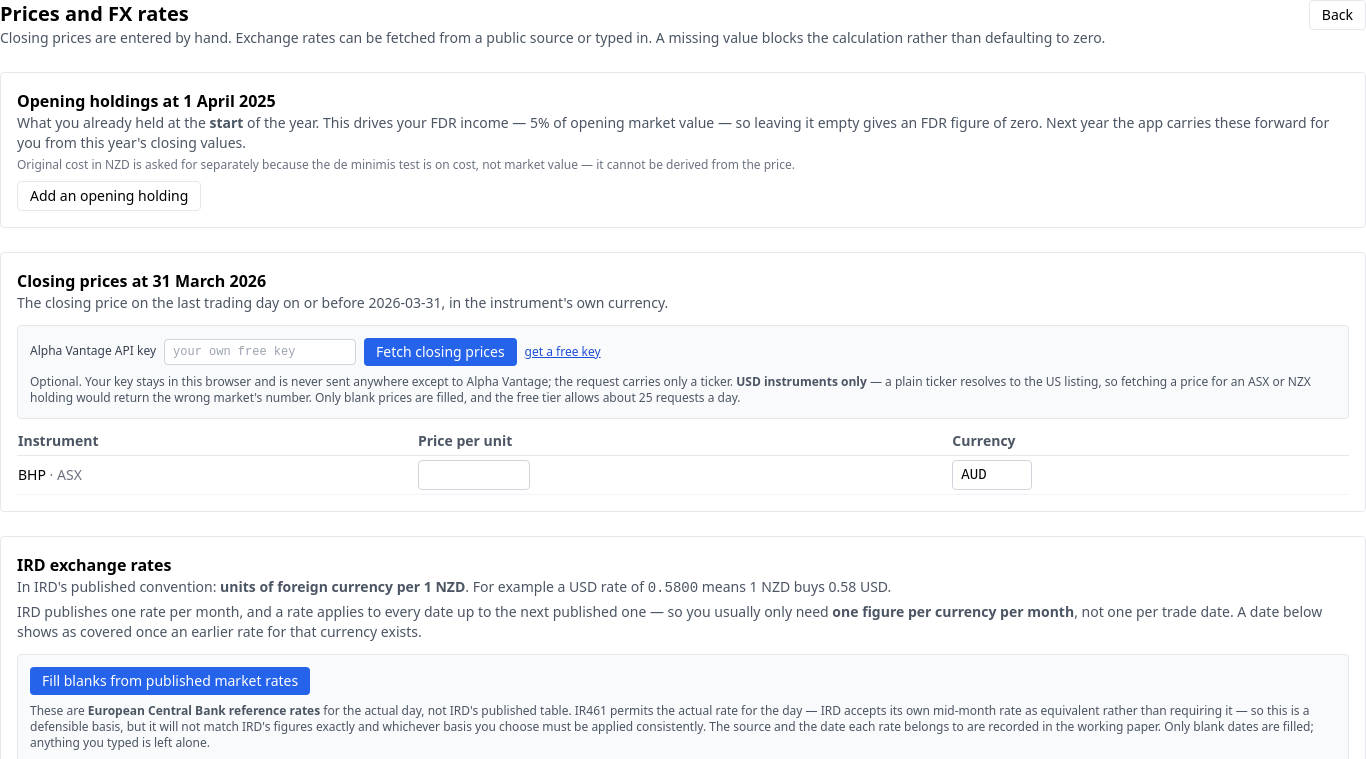
Test: fetching closing prices › refuses to fetch a non-USD holding, and says why
Type "test-key" into the password field labelled "Alpha Vantage API key".
click(260, 352); type("test-key")  # box [164,339,356,365]
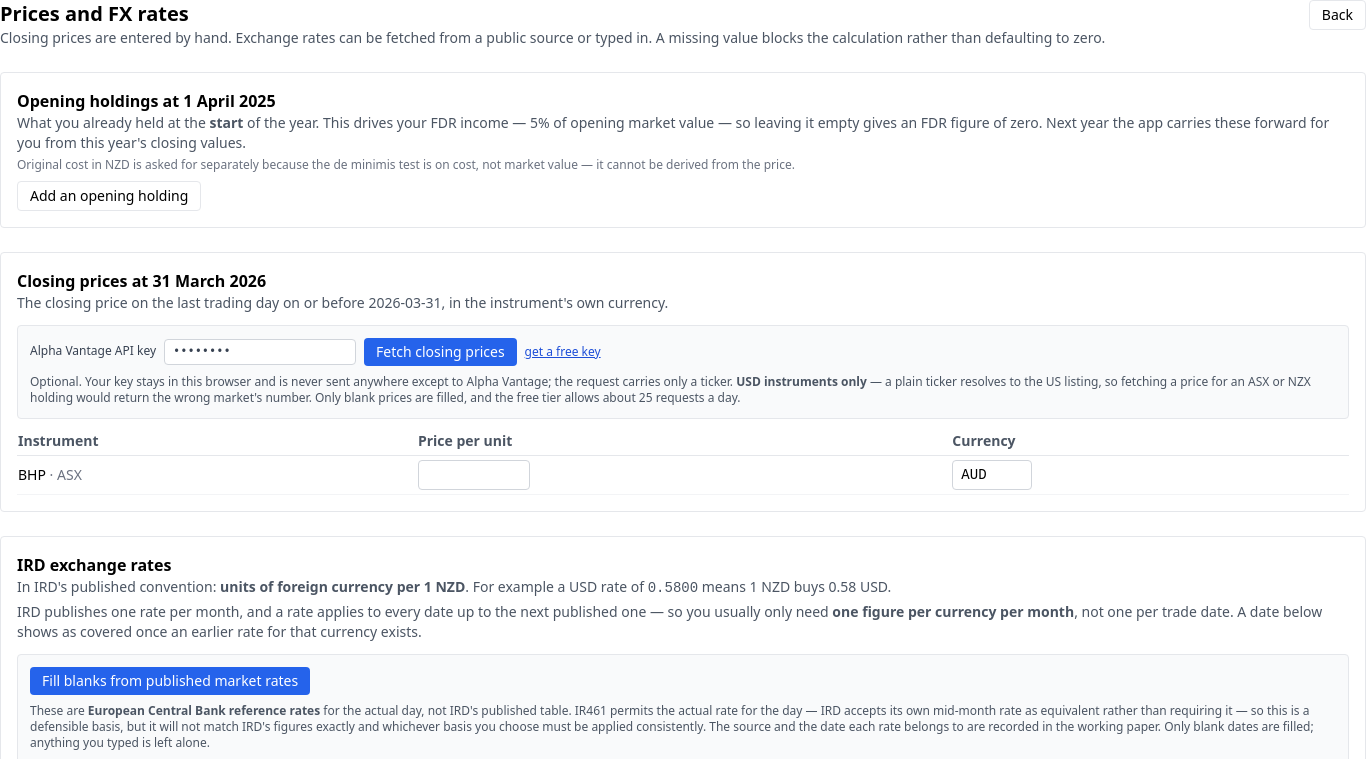
Click the button with test id "fetch-prices".
click(440, 352)  # box [364,338,517,366]
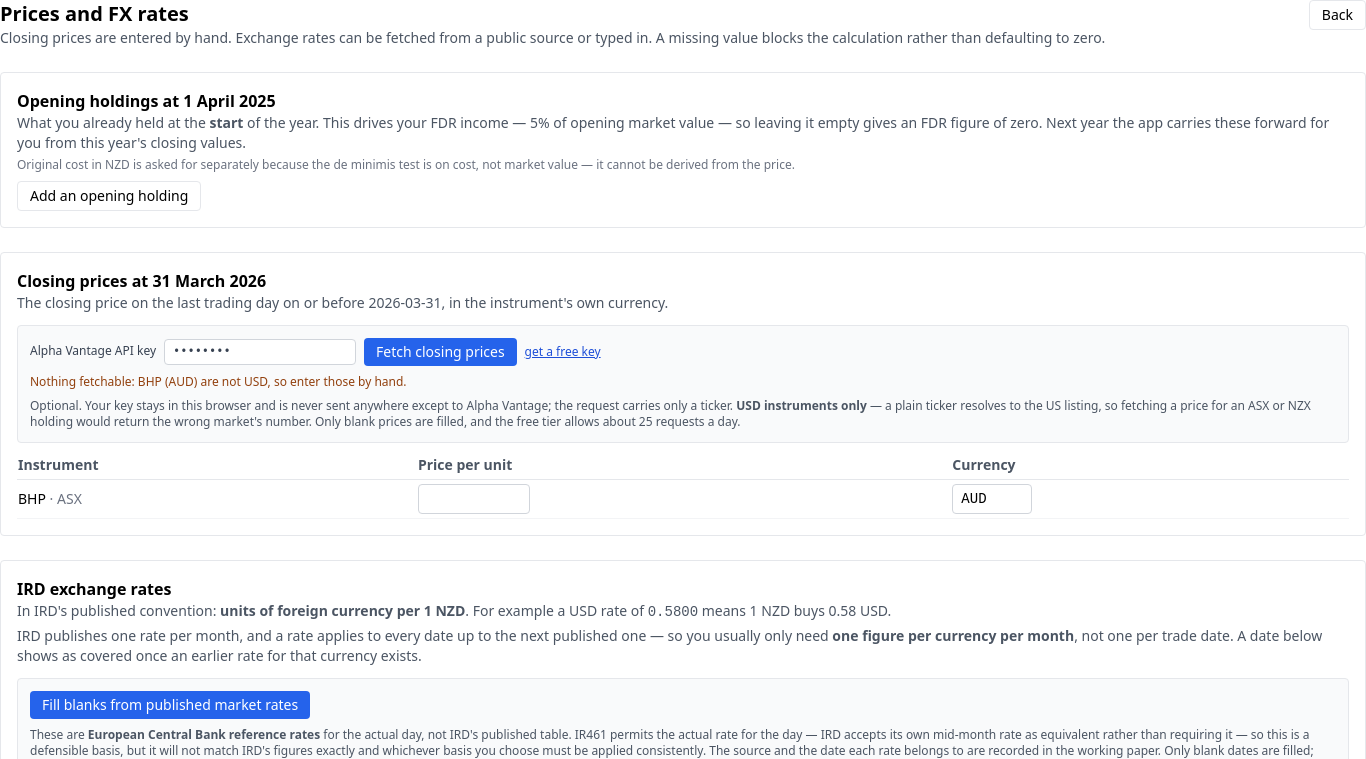
Expected: the text with test id "fetch-prices-message" reads "Nothing fetchable: BHP (AUD) are not USD, so enter those by hand.", [30,373,407,390]
